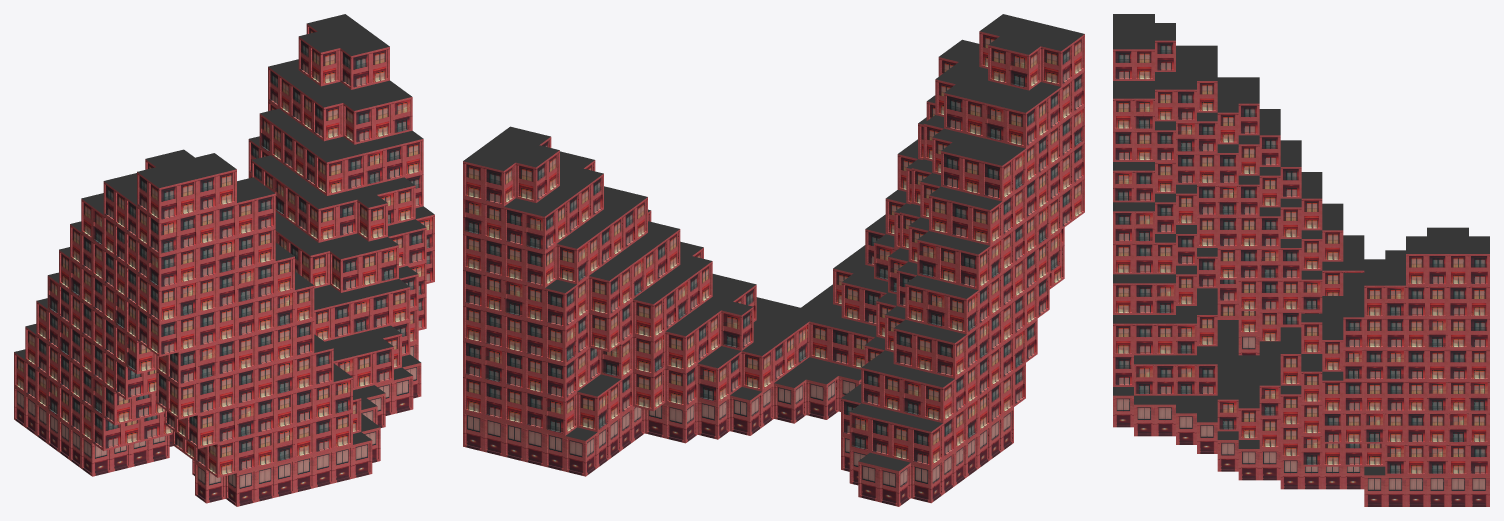
File: archweekend_1_3.glb
3 views of the same model, side by side, from view 1: azimuth 30°, elevation 25°; view 2: azimuth 150°, elevation 25°; view 3: azimuth 270°, elevation 25° (orthographic). The views are drawn at different scales.
Visible parts, largest first — view 1: house-3; view 2: house-3; view 3: house-3.
Boxes of the visible parts, box(x1,y1,x2,y2) form: house-3: box(14, 14, 434, 506); house-3: box(463, 14, 1084, 506); house-3: box(1113, 14, 1489, 506).
Size of the model in its own units: 60 by 50 by 54.
5 materials, 4 textured.
